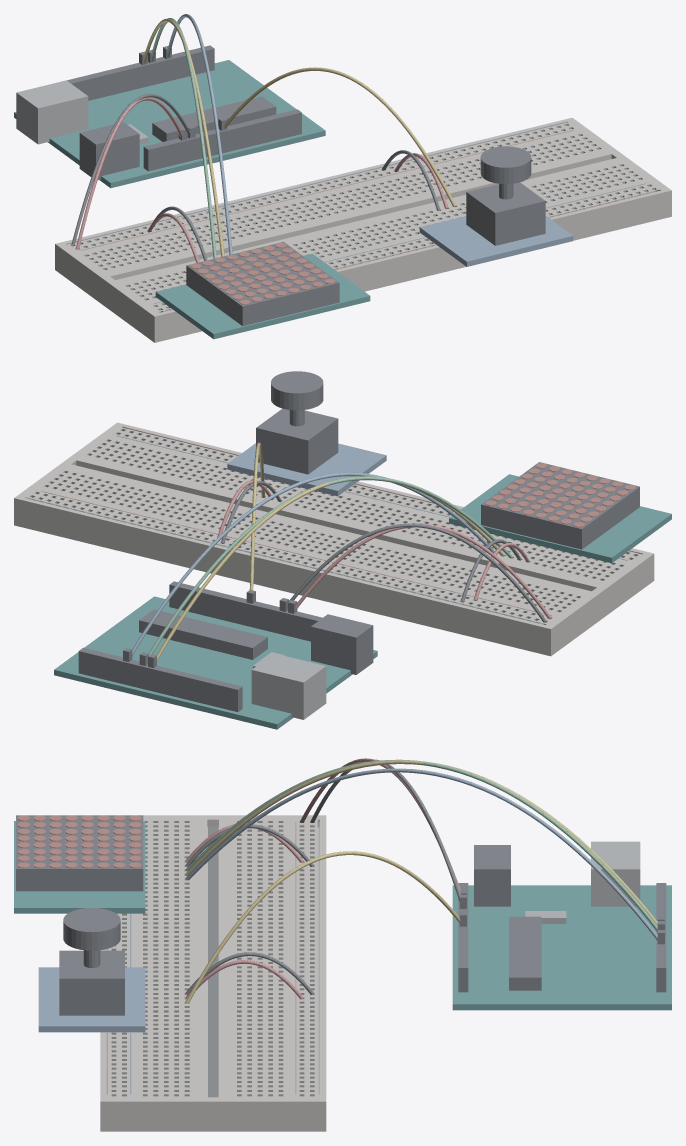
The model's file is step-13.glb.
The picture shows the model from 3 angles, top to bottom: view 1: azimuth 30°, elevation 25°; view 2: azimuth 150°, elevation 25°; view 3: azimuth 270°, elevation 25°; orthographic projection. The views are drawn at different scales.
Parts seen in each view (by area): view 1: breadboard__mesh, uno__mesh, matrix__mesh, joystick__mesh, joystick_x__mesh, matrix_clock__mesh, matrix_select__mesh, matrix_data__mesh, power_supply__mesh, ground_supply__mesh; view 2: breadboard__mesh, uno__mesh, matrix__mesh, joystick__mesh, matrix_clock__mesh, matrix_data__mesh, matrix_select__mesh, ground_supply__mesh, power_supply__mesh, joystick_x__mesh; view 3: breadboard__mesh, uno__mesh, matrix__mesh, joystick__mesh, matrix_clock__mesh, matrix_data__mesh, matrix_select__mesh, joystick_x__mesh, ground_supply__mesh, joystick_ground__mesh, power_supply__mesh, matrix_ground__mesh (+1 smaller).
Boxes of the visible parts, left/top/right/bottom form: breadboard__mesh: left=55, top=117, right=671, bottom=342; uno__mesh: left=14, top=45, right=325, bottom=188; matrix__mesh: left=155, top=242, right=370, bottom=339; joystick__mesh: left=419, top=146, right=573, bottom=266; joystick_x__mesh: left=218, top=67, right=455, bottom=206; matrix_clock__mesh: left=163, top=14, right=232, bottom=254; matrix_select__mesh: left=139, top=18, right=224, bottom=256; matrix_data__mesh: left=148, top=18, right=216, bottom=258; power_supply__mesh: left=76, top=97, right=187, bottom=248; ground_supply__mesh: left=71, top=94, right=195, bottom=245; breadboard__mesh: left=14, top=422, right=654, bottom=656; uno__mesh: left=54, top=581, right=377, bottom=729; matrix__mesh: left=449, top=462, right=671, bottom=563; joystick__mesh: left=227, top=371, right=386, bottom=496; matrix_clock__mesh: left=123, top=472, right=494, bottom=661; matrix_data__mesh: left=139, top=476, right=512, bottom=665; matrix_select__mesh: left=148, top=476, right=504, bottom=667; ground_supply__mesh: left=279, top=523, right=546, bottom=622; power_supply__mesh: left=288, top=523, right=551, bottom=618; joystick_x__mesh: left=246, top=442, right=265, bottom=603; breadboard__mesh: left=100, top=815, right=326, bottom=1131; uno__mesh: left=452, top=841, right=671, bottom=1010; matrix__mesh: left=14, top=815, right=145, bottom=913; joystick__mesh: left=38, top=908, right=145, bottom=1032; matrix_clock__mesh: left=185, top=768, right=664, bottom=944; matrix_data__mesh: left=185, top=759, right=664, bottom=931; matrix_select__mesh: left=185, top=760, right=664, bottom=925; joystick_x__mesh: left=185, top=851, right=466, bottom=1003; ground_supply__mesh: left=310, top=759, right=466, bottom=908; joystick_ground__mesh: left=185, top=952, right=313, bottom=994; power_supply__mesh: left=300, top=758, right=466, bottom=894; matrix_ground__mesh: left=185, top=824, right=313, bottom=866.
Size of the model in its own units: 0.165 by 0.048 by 0.1602.
